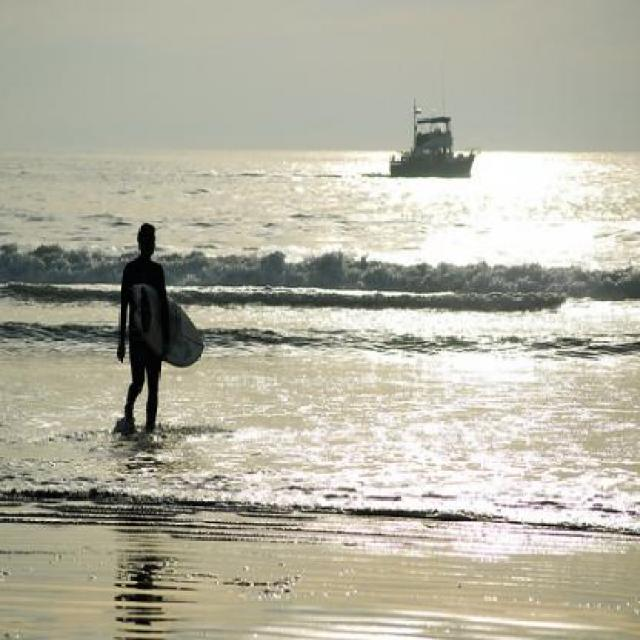ship: (370, 76, 488, 186)
